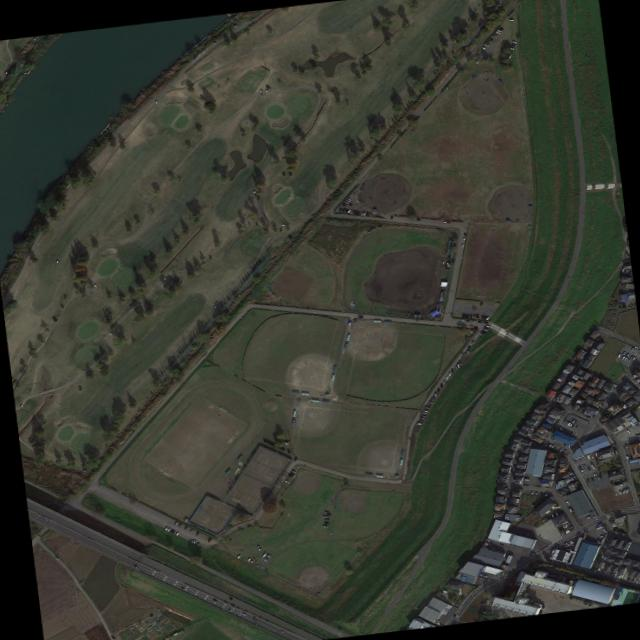large-vehicle: (504, 552, 513, 563), (589, 463, 594, 469), (585, 453, 590, 458), (595, 525, 601, 529), (565, 421, 570, 425), (153, 99, 158, 103), (624, 488, 628, 493), (621, 488, 625, 493), (261, 552, 266, 556), (92, 283, 96, 287), (212, 304, 216, 308), (617, 490, 621, 494), (251, 189, 255, 193), (263, 88, 268, 91), (584, 515, 589, 518), (108, 330, 111, 334), (280, 222, 284, 225), (19, 403, 22, 406), (257, 89, 261, 91), (590, 454, 592, 458), (55, 259, 57, 262)
small-vehicle: (205, 535, 211, 541), (490, 33, 497, 38), (479, 44, 485, 49), (487, 36, 493, 41), (496, 26, 503, 30), (456, 360, 461, 365), (620, 350, 625, 355), (474, 58, 479, 63), (486, 38, 491, 43), (163, 525, 168, 530), (191, 538, 196, 543), (235, 553, 240, 558), (245, 556, 250, 561), (510, 41, 516, 45), (510, 39, 516, 43), (483, 42, 489, 46), (240, 611, 246, 615), (231, 23, 237, 27), (286, 471, 293, 474), (435, 386, 439, 391), (349, 190, 354, 194), (479, 330, 484, 334), (569, 430, 573, 435), (625, 428, 629, 433), (615, 353, 620, 357), (506, 53, 511, 57), (484, 315, 488, 320), (474, 313, 478, 318), (161, 275, 166, 279), (194, 530, 198, 535), (182, 525, 187, 529), (165, 527, 170, 531), (170, 528, 174, 533), (188, 538, 193, 542), (345, 196, 350, 200), (542, 492, 547, 496), (526, 431, 531, 435), (567, 393, 572, 397), (31, 36, 36, 40), (53, 556, 58, 560), (347, 194, 352, 198), (481, 573, 486, 577), (585, 464, 589, 469), (339, 203, 344, 207), (361, 210, 365, 215), (283, 479, 288, 483), (256, 546, 261, 550), (415, 421, 421, 424), (508, 46, 514, 49), (507, 18, 513, 21), (414, 217, 420, 220), (286, 473, 292, 476), (322, 517, 328, 520), (321, 524, 327, 527), (3, 70, 7, 74), (466, 345, 470, 349), (469, 340, 473, 344), (629, 346, 633, 350), (549, 443, 553, 447), (566, 443, 570, 447), (633, 423, 637, 427), (561, 419, 565, 423), (570, 418, 574, 422), (572, 419, 576, 423), (624, 357, 628, 361), (622, 356, 626, 360), (620, 355, 624, 359), (624, 352, 628, 356), (629, 354, 633, 358), (509, 43, 513, 47), (481, 314, 485, 318), (557, 447, 561, 451), (195, 541, 199, 545), (188, 528, 192, 532), (176, 522, 180, 526), (172, 520, 176, 524), (168, 527, 172, 531), (174, 530, 178, 534), (567, 507, 571, 511), (562, 449, 566, 453), (549, 513, 553, 517), (581, 467, 585, 471), (579, 464, 583, 468), (340, 207, 344, 211), (345, 208, 349, 212), (348, 209, 352, 213), (364, 211, 368, 215), (419, 416, 424, 419), (422, 409, 427, 412), (424, 405, 429, 408), (427, 400, 432, 403), (433, 391, 436, 396), (453, 364, 456, 369), (463, 351, 468, 354), (481, 327, 486, 330), (468, 312, 471, 317), (465, 312, 468, 317), (462, 312, 465, 317), (445, 220, 450, 223), (460, 242, 463, 247), (494, 30, 499, 33), (492, 32, 497, 35), (348, 193, 353, 196), (567, 525, 572, 528), (602, 388, 607, 391), (343, 198, 348, 201), (529, 551, 534, 554), (571, 474, 576, 477), (342, 200, 347, 203), (353, 209, 356, 214), (289, 469, 294, 472), (325, 512, 330, 515), (278, 629, 283, 632), (447, 371, 450, 375), (441, 379, 444, 383), (444, 375, 447, 379), (464, 349, 468, 352), (480, 329, 484, 332), (631, 356, 635, 359), (547, 443, 551, 446), (558, 425, 561, 429), (564, 420, 567, 424), (626, 358, 630, 361), (479, 314, 482, 318), (472, 313, 475, 317), (460, 312, 463, 316), (461, 236, 464, 240), (462, 231, 465, 235), (577, 457, 580, 461), (582, 455, 585, 459), (248, 559, 252, 562), (590, 477, 593, 481), (596, 475, 599, 479), (598, 474, 601, 478), (624, 443, 627, 447), (627, 454, 630, 458), (469, 329, 473, 332), (445, 260, 448, 264), (38, 451, 42, 454), (634, 578, 637, 582), (440, 591, 444, 594), (613, 491, 616, 495), (553, 511, 557, 514), (563, 499, 567, 502), (595, 485, 598, 489), (594, 471, 597, 475), (577, 464, 580, 468), (582, 463, 585, 467), (617, 573, 620, 577), (356, 210, 359, 214), (359, 210, 362, 214), (322, 510, 328, 512), (321, 515, 327, 517), (255, 544, 259, 547), (420, 414, 425, 416), (450, 367, 452, 372), (456, 323, 461, 325), (484, 324, 489, 326), (482, 320, 487, 322), (476, 320, 481, 322), (470, 319, 475, 321), (496, 29, 501, 31), (489, 591, 494, 593), (323, 521, 328, 523), (559, 427, 562, 430), (572, 432, 575, 435), (568, 422, 571, 425), (570, 423, 573, 426), (574, 425, 577, 428), (440, 260, 443, 263), (591, 472, 594, 475), (579, 468, 582, 471), (422, 411, 426, 413), (439, 382, 441, 386), (456, 363, 458, 367), (468, 324, 472, 326), (461, 324, 465, 326), (633, 345, 637, 347), (465, 319, 469, 321), (459, 318, 463, 320), (441, 220, 445, 222), (534, 490, 536, 494), (530, 489, 532, 493), (351, 209, 353, 213), (430, 397, 432, 400)
